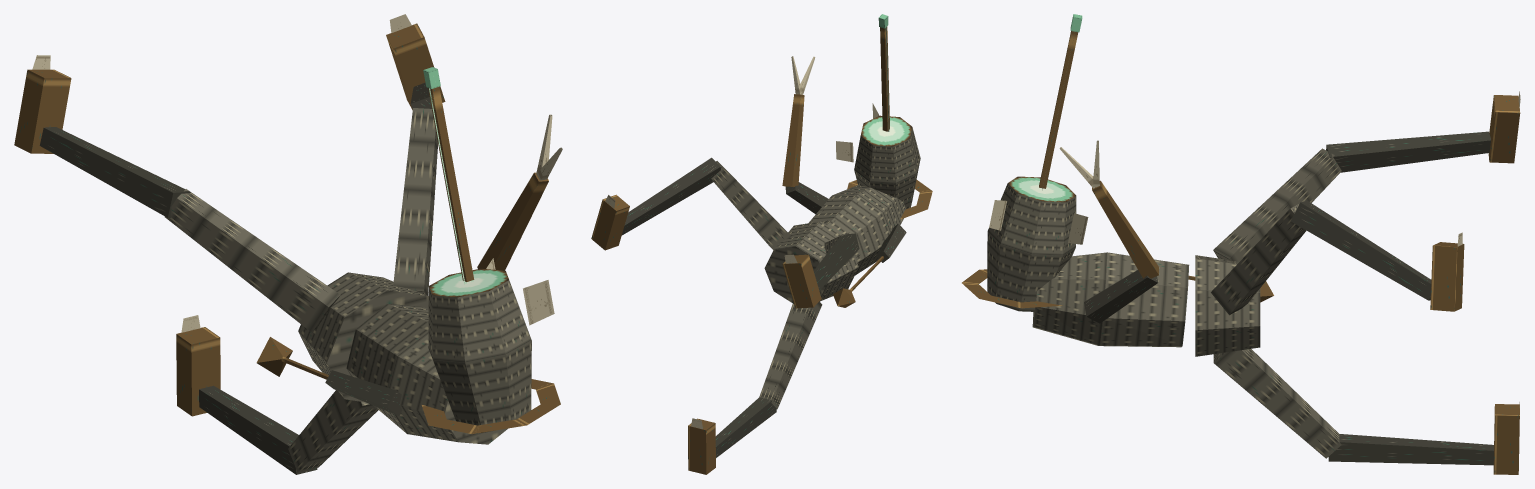
The model's file is surveyor_locomotion.obj.
3 renders of one model, left to right at view 1: azimuth 30°, elevation 25°; view 2: azimuth 150°, elevation 25°; view 3: azimuth 270°, elevation 25°, orthographic. The views are drawn at different scales.
Parts seen in each view (by area): view 1: head, torso, leg_fl_thigh, leg_fr_thigh, root, leg_fl_shin, leg_fl_foot, leg_rear_thigh, leg_rear_foot, leg_rear_shin, caliper, plumb (+3 smaller); view 2: head, torso, root, leg_rear_thigh, caliper, leg_fr_shin, leg_fr_thigh, leg_fl_foot, leg_rear_shin, leg_rear_foot, leg_fr_foot, leg_fl_shin (+3 smaller); view 3: torso, head, leg_rear_thigh, root, leg_fl_shin, caliper, leg_fl_thigh, leg_rear_shin, leg_fr_shin, leg_fr_thigh, leg_fr_foot, leg_fl_foot (+3 smaller).
Boxes of the visible parts, box(x1,y1,x2,y2) form: head: box(428, 258, 554, 432); torso: box(346, 303, 508, 444); leg_fl_thigh: box(165, 189, 340, 332); leg_fr_thigh: box(393, 108, 437, 295); root: box(298, 272, 428, 402); leg_fl_shin: box(39, 127, 190, 217); leg_fl_foot: box(14, 55, 71, 153); leg_rear_thigh: box(288, 390, 378, 472); leg_rear_foot: box(176, 315, 220, 416); leg_rear_shin: box(199, 385, 317, 474); caliper: box(477, 114, 562, 270); plumb: box(256, 337, 402, 415); head: box(836, 103, 920, 209); torso: box(808, 185, 905, 275); root: box(764, 221, 858, 303); leg_rear_thigh: box(759, 301, 822, 409); caliper: box(782, 56, 828, 214); leg_fr_shin: box(621, 157, 720, 235); leg_fr_thigh: box(711, 161, 791, 250); leg_fl_foot: box(782, 254, 821, 308); leg_rear_shin: box(715, 397, 776, 457); leg_rear_foot: box(688, 418, 715, 474); leg_fr_foot: box(591, 194, 629, 250); leg_fl_shin: box(813, 233, 859, 290); torso: box(1032, 252, 1189, 347); head: box(987, 176, 1088, 311); leg_rear_thigh: box(1213, 349, 1341, 458); root: box(1195, 255, 1260, 356); leg_fl_shin: box(1326, 131, 1490, 172); caliper: box(1059, 140, 1158, 323); leg_fl_thigh: box(1213, 148, 1341, 261); leg_rear_shin: box(1328, 434, 1493, 465); leg_fr_shin: box(1290, 201, 1431, 300); leg_fr_thigh: box(1211, 203, 1306, 315); leg_fr_foot: box(1430, 232, 1464, 311); leg_fl_foot: box(1488, 91, 1520, 163).
Size of the model in its own units: 0.6512 by 0.86 by 0.9845.
1 material, 1 textured.
